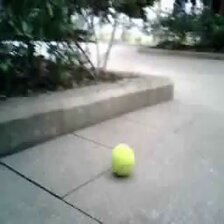tennis: (112, 145, 134, 175)
